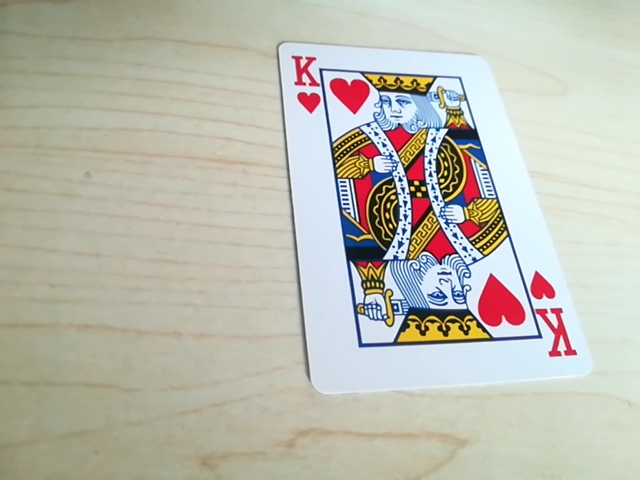hx k: (534, 296, 571, 366), (287, 48, 332, 102)
